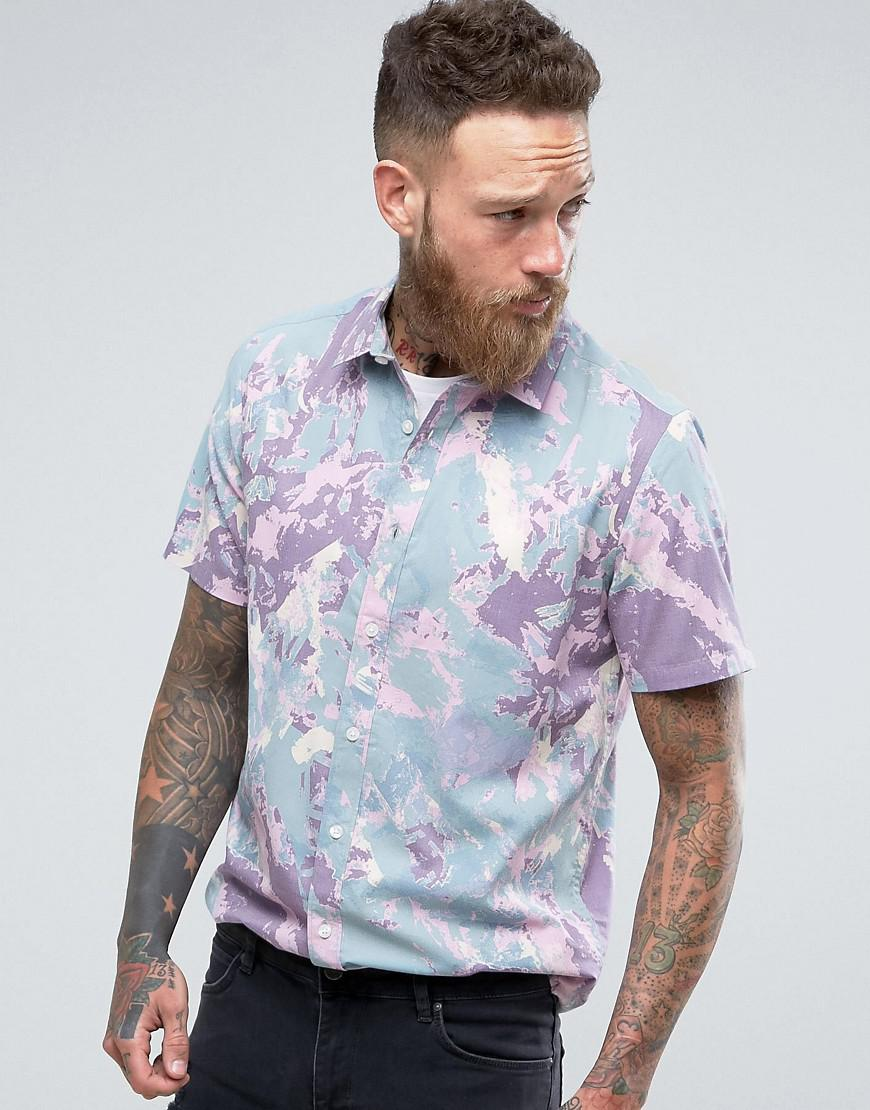teeshirt: (164, 273, 759, 1025)
